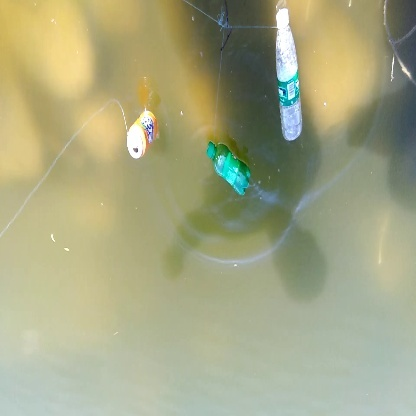bottle: (274, 8, 308, 146), (205, 139, 255, 197), (126, 104, 163, 163)
